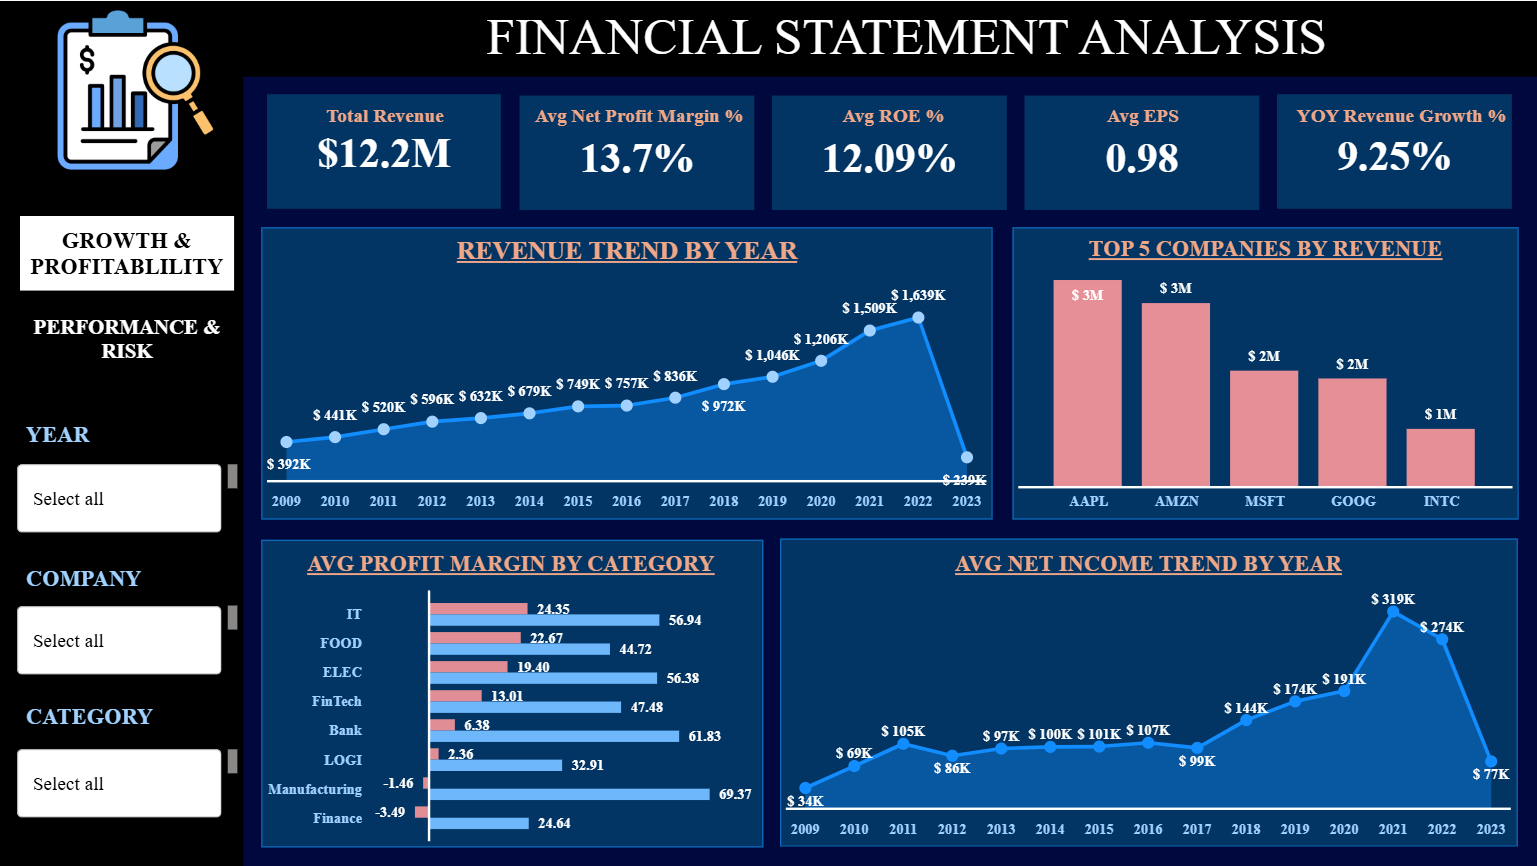

The page's visual inventory and layout, read from the dashboard file:
{"tool":"powerbi","page":{"name":"GROWTH & PROFITABLILITY","canvas":[1280,720],"ordinal":0},"visuals":[{"type":"cardVisual","fields":{"Data":["gold_company_yearly_kpis_table.TOTAL REVENUE"]},"box":[217.4,73.3,204.7,105.8],"z":0},{"type":"shape","box":[0,0,1280,63],"z":1000},{"type":"shape","box":[0,0,202.3,719.8],"z":2000},{"type":"textbox","box":[227.9,0,1052.3,62.8],"z":3000},{"type":"textbox","box":[227.6,81.1,185,28.1],"z":4000},{"type":"cardVisual","fields":{"Data":["gold_company_yearly_kpis_table.Avg Net Profit Margin %"]},"box":[427.5,73.8,205,105],"z":5000},{"type":"textbox","box":[427.1,81.1,213,28.1],"z":6000},{"type":"cardVisual","fields":{"Data":["gold_company_yearly_kpis_table.Avg ROE %"]},"box":[637.5,73.8,205,105],"z":7000},{"type":"cardVisual","fields":{"Data":["gold_company_yearly_kpis_table.Avg EPS"]},"box":[847.5,73.8,205,105],"z":8000},{"type":"cardVisual","fields":{"Data":["gold_company_yearly_kpis_table.Avg YoY Revenue Growth %"]},"box":[1057,73.3,205.8,105.8],"z":9000},{"type":"textbox","box":[648.5,81.1,185,28.1],"z":10000},{"type":"textbox","box":[854.3,81.1,188.1,28.1],"z":11000},{"type":"textbox","box":[1064.2,81.1,198.5,28.1],"z":12000},{"type":"shape","box":[217.4,188.4,608.1,243],"z":13000},{"type":"shape","box":[841.9,188.4,420.9,243],"z":14000},{"type":"shape","box":[217.4,447.7,417.4,255.8],"z":15000},{"type":"shape","box":[649,447.3,613.4,256.3],"z":16000},{"type":"image","box":[23.3,0,179.1,147.7],"z":17000},{"type":"advancedSlicerVisual","title":"\\","fields":{"Values":["gold_company_yearly_kpis_table.Year"]},"box":[9.3,380.2,193,67.4],"z":18000},{"type":"advancedSlicerVisual","title":"\\","fields":{"Values":["gold_company_yearly_kpis_table.Category"]},"box":[9.3,617.4,193,67.4],"z":19000},{"type":"advancedSlicerVisual","title":"\\","fields":{"Values":["gold_company_yearly_kpis_table.Company"]},"box":[9.3,497.7,193,67.4],"z":20000},{"type":"textbox","box":[16.6,345,171.5,37.4],"z":21000},{"type":"areaChart","title":"REVENUE TREND BY YEAR","fields":{"Category":["gold_company_yearly_kpis_table.Year"],"Y":["Sum(gold_company_yearly_kpis_table.Revenue)"]},"box":[217.4,195.3,608.1,236],"z":22000},{"type":"clusteredColumnChart","title":"TOP 5 COMPANIES BY REVENUE","fields":{"Category":["gold_company_yearly_kpis_table.Company"],"Y":["Sum(gold_company_yearly_kpis_table.Revenue)"]},"box":[841.9,195.3,420.9,236],"z":23000},{"type":"clusteredBarChart","title":"AVG PROFIT MARGIN BY CATEGORY ","fields":{"Category":["gold_company_yearly_kpis_table.Category"],"Y":["Avg(gold_company_yearly_kpis_table.Net_Profit_Margin_Pct)","Avg(gold_company_yearly_kpis_table.Gross_Margin_Pct)"]},"box":[217.4,457,415.1,246.5],"z":24000},{"type":"areaChart","title":"AVG NET INCOME TREND BY YEAR","fields":{"Category":["gold_company_yearly_kpis_table.Year"],"Y":["Sum(gold_company_yearly_kpis_table.Net_Income)"]},"box":[648.8,457,612.8,246.5],"z":25000},{"type":"pageNavigator","box":[16.6,178.8,178.8,135.1],"z":26000},{"type":"textbox","box":[16.6,579.9,162.1,40.5],"z":26001},{"type":"textbox","box":[16.6,464.6,178.8,33.3],"z":26002}]}

Visuals, with their boxes in screenshot pixels (x1, y1, x2, y2), scaled from the page's 1280x720 canvas onto the 1537x866 screenshot:
cardVisual - gold_company_yearly_kpis_table.TOTAL REVENUE: <region>261, 88, 507, 215</region>
shape: <region>0, 0, 1536, 76</region>
shape: <region>0, 0, 243, 865</region>
textbox: <region>274, 0, 1536, 76</region>
textbox: <region>273, 98, 495, 131</region>
cardVisual - gold_company_yearly_kpis_table.Avg Net Profit Margin %: <region>513, 89, 759, 215</region>
textbox: <region>513, 98, 769, 131</region>
cardVisual - gold_company_yearly_kpis_table.Avg ROE %: <region>765, 89, 1012, 215</region>
cardVisual - gold_company_yearly_kpis_table.Avg EPS: <region>1018, 89, 1264, 215</region>
cardVisual - gold_company_yearly_kpis_table.Avg YoY Revenue Growth %: <region>1269, 88, 1516, 215</region>
textbox: <region>779, 98, 1001, 131</region>
textbox: <region>1026, 98, 1252, 131</region>
textbox: <region>1278, 98, 1516, 131</region>
shape: <region>261, 227, 991, 519</region>
shape: <region>1011, 227, 1516, 519</region>
shape: <region>261, 538, 762, 846</region>
shape: <region>779, 538, 1516, 846</region>
image: <region>28, 0, 243, 178</region>
"\" advancedSlicerVisual: <region>11, 457, 243, 538</region>
"\" advancedSlicerVisual: <region>11, 743, 243, 824</region>
"\" advancedSlicerVisual: <region>11, 599, 243, 680</region>
textbox: <region>20, 415, 226, 460</region>
"REVENUE TREND BY YEAR" areaChart: <region>261, 235, 991, 519</region>
"TOP 5 COMPANIES BY REVENUE" clusteredColumnChart: <region>1011, 235, 1516, 519</region>
"AVG PROFIT MARGIN BY CATEGORY " clusteredBarChart: <region>261, 550, 759, 846</region>
"AVG NET INCOME TREND BY YEAR" areaChart: <region>779, 550, 1515, 846</region>
pageNavigator: <region>20, 215, 235, 378</region>
textbox: <region>20, 697, 215, 746</region>
textbox: <region>20, 559, 235, 599</region>
